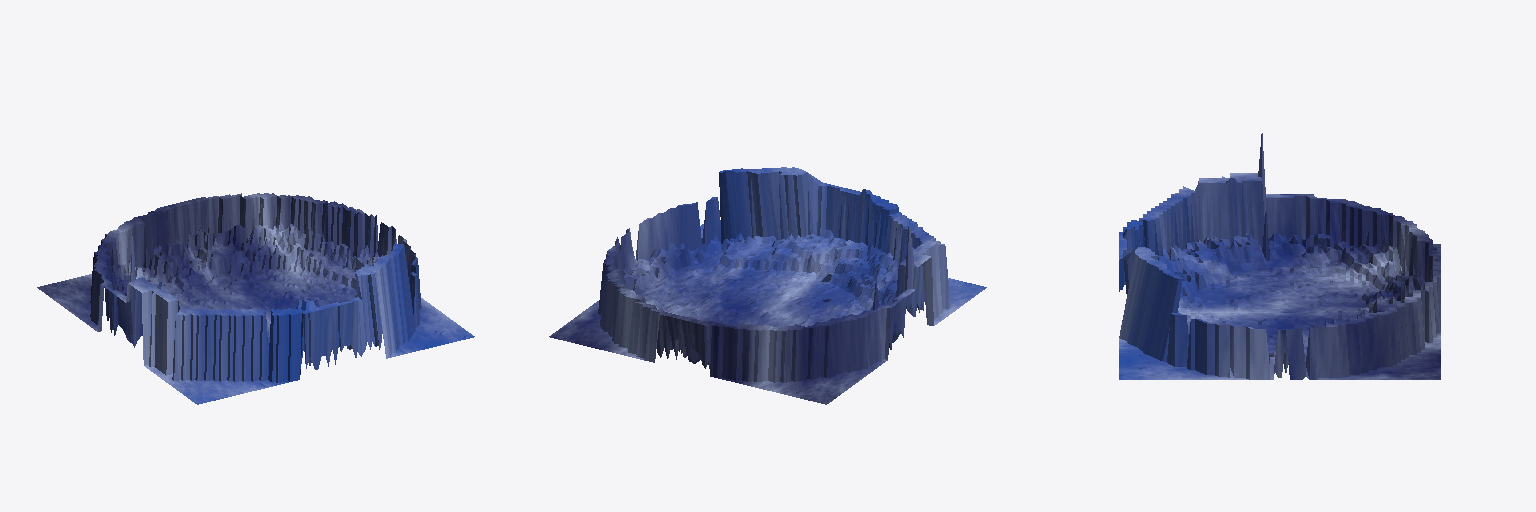
3 renders of one model, left to right at view 1: azimuth 30°, elevation 25°; view 2: azimuth 150°, elevation 25°; view 3: azimuth 270°, elevation 25°, orthographic.
Visible parts, largest first — view 1: 平面; view 2: 平面; view 3: 平面.
Part boxes in pixels (bbox=[...]): 平面: bbox=[37, 193, 474, 404]; 平面: bbox=[549, 167, 986, 404]; 平面: bbox=[1119, 133, 1440, 379].
Bounding box in the file's own units: 500 × 223 × 500.
Materials: 1 (1 with a texture image).